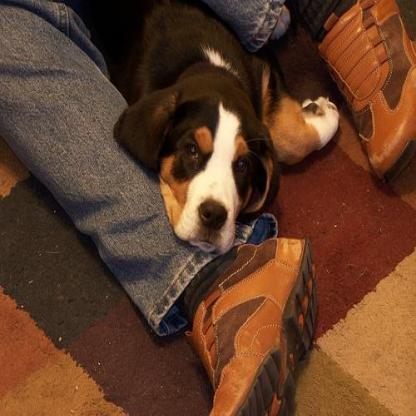Greater_Swiss_Mountain_dog: (70, 0, 338, 254)
